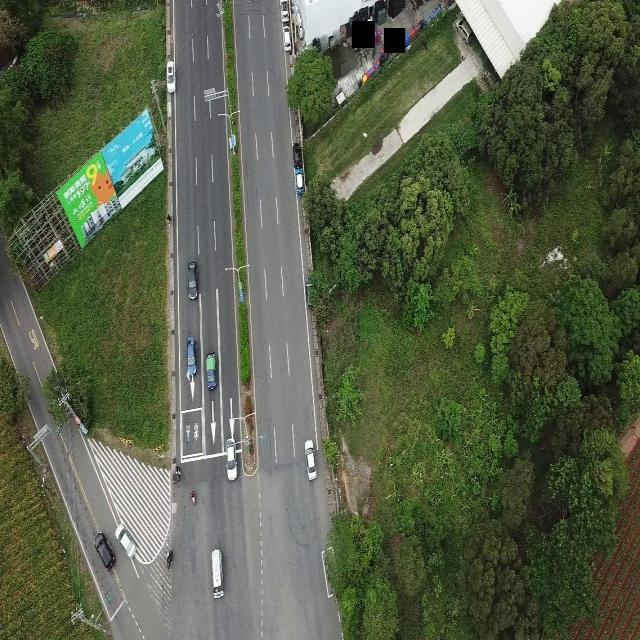bike: (163, 547, 175, 568), (175, 465, 181, 482), (190, 488, 196, 504)
bus: (292, 142, 305, 195)
car: (94, 531, 115, 570), (114, 523, 136, 559), (211, 548, 224, 599), (454, 14, 474, 44), (225, 437, 237, 481), (304, 439, 316, 481), (205, 351, 217, 390), (186, 336, 197, 377), (188, 261, 198, 300), (167, 60, 176, 93), (282, 26, 292, 52), (305, 275, 313, 307), (280, 0, 289, 23)
